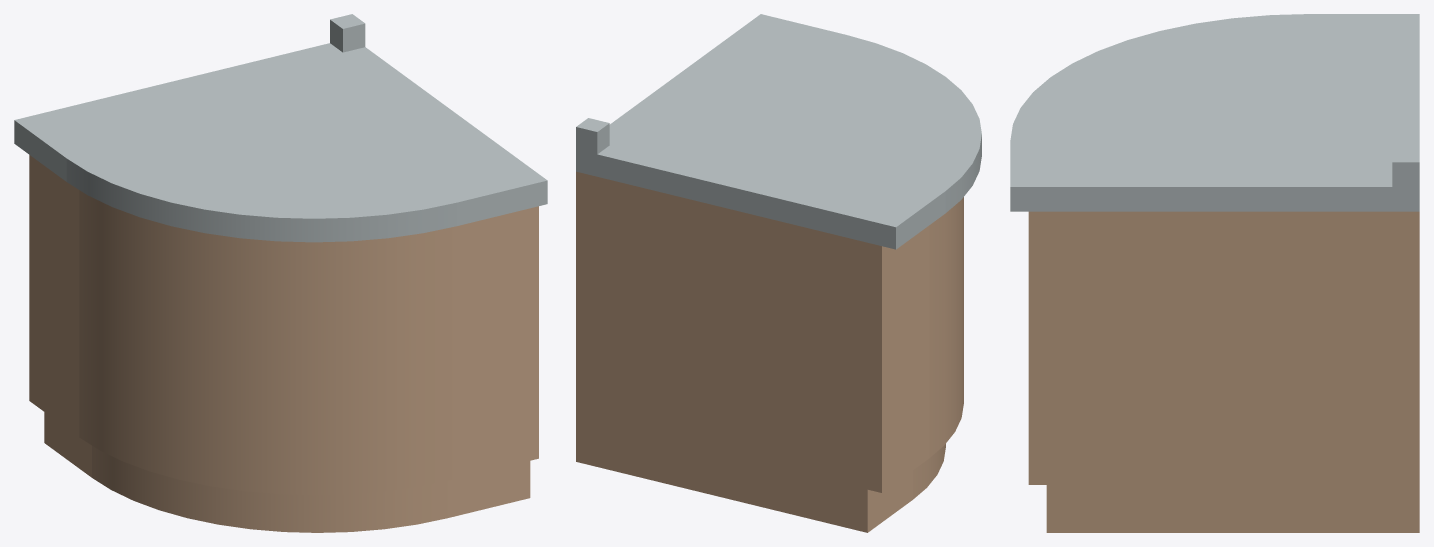
Rendered from kitchenCabinetCornerRound.glb.
The picture shows the model from 3 angles, left to right: view 1: azimuth 30°, elevation 25°; view 2: azimuth 150°, elevation 25°; view 3: azimuth 270°, elevation 25°; orthographic projection. The views are drawn at different scales.
Visible parts, largest first — view 1: kitchenCabinetCornerRound; view 2: kitchenCabinetCornerRound; view 3: kitchenCabinetCornerRound.
Boxes of the visible parts, <box> form: kitchenCabinetCornerRound: <box>14,14,547,532</box>; kitchenCabinetCornerRound: <box>576,14,981,532</box>; kitchenCabinetCornerRound: <box>1010,14,1419,532</box>.
Size of the model in its own units: 0.45 by 0.45 by 0.45.
